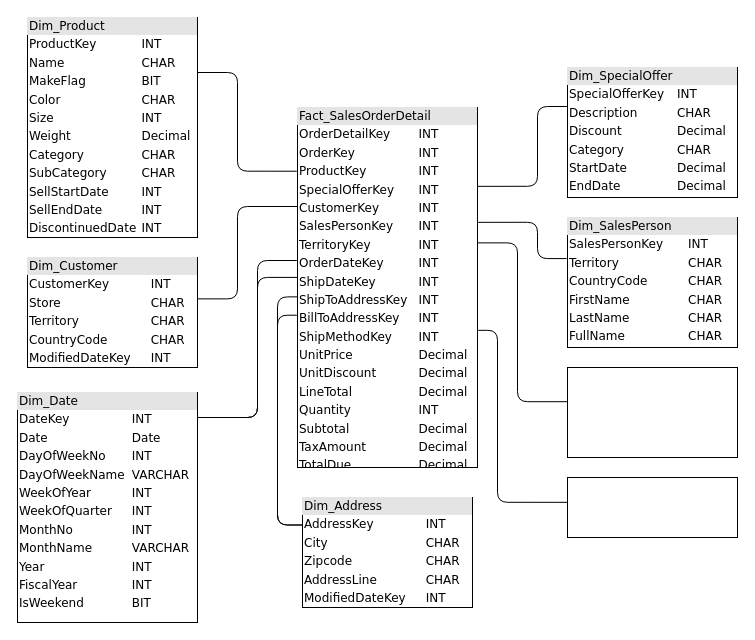
This 755x640 diagram has some shape labels left out. Each missing label, with the box of its shape:
Dim_ShipmentMethod ShipmentMethodKey INT ShipMethodName CHAR: (566, 476, 738, 538)
Dim_Territory TerritoryKey INT Name CHAR CountryCode CHAR ModifiedDateKey INT: (566, 366, 738, 458)
